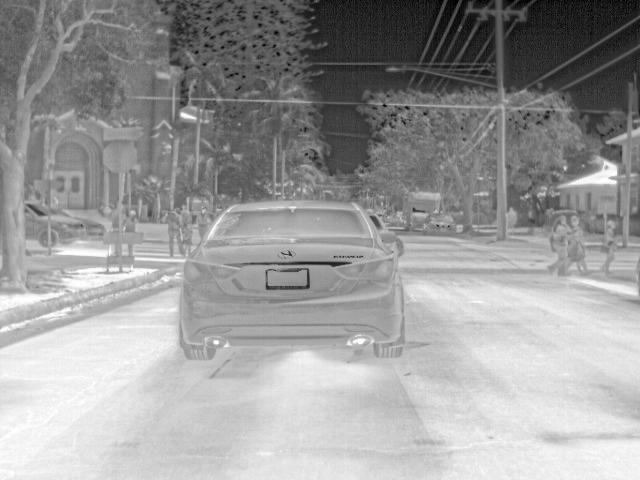car: (174, 201, 409, 359), (21, 200, 87, 246), (60, 213, 106, 243), (422, 209, 453, 237)
person: (549, 214, 571, 276), (566, 214, 588, 274), (599, 222, 621, 273), (167, 207, 190, 255), (194, 206, 213, 242), (123, 209, 140, 234), (504, 206, 518, 234)
